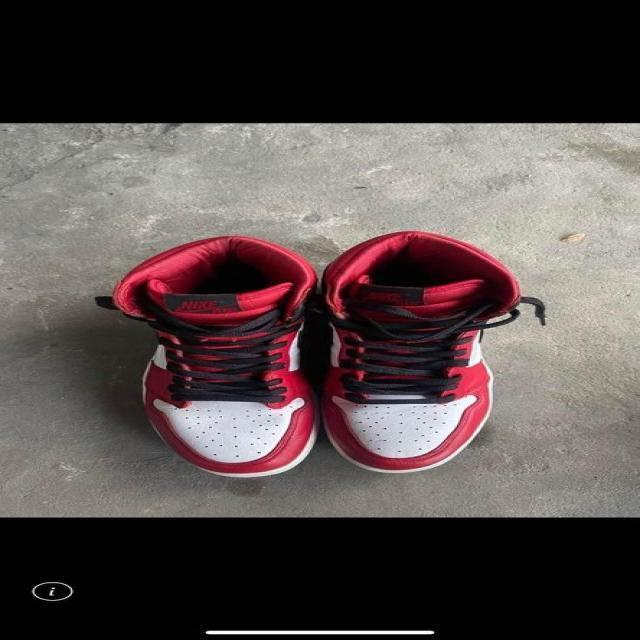nike fake jordan 1: (111, 235, 322, 480), (312, 234, 522, 476)
